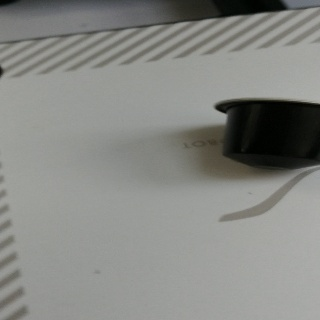capsule_10: (212, 97, 320, 172)
